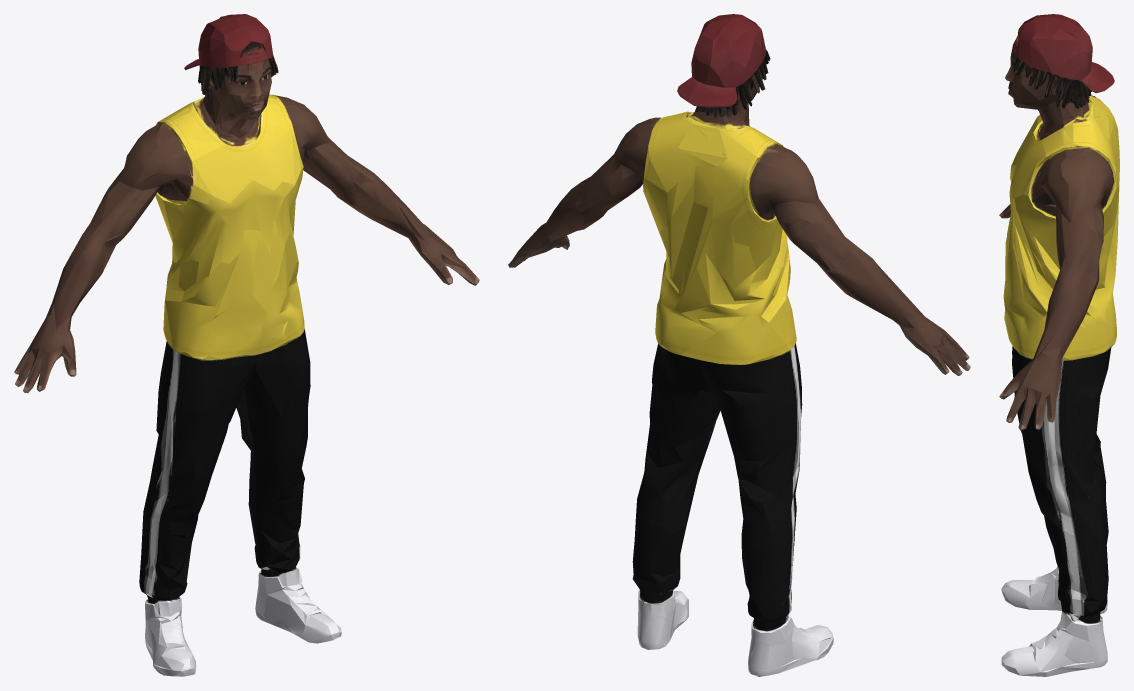
The model's file is image3d.glb.
The picture shows the model from 3 angles, left to right: view 1: azimuth 30°, elevation 25°; view 2: azimuth 150°, elevation 25°; view 3: azimuth 270°, elevation 25°; orthographic projection.
Size of the model in its own units: 1.44 by 1.9 by 0.3363.
Materials: 1 (1 with a texture image).
